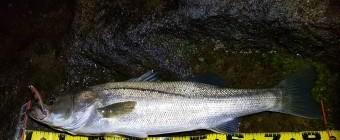fish: (30, 70, 319, 137)
